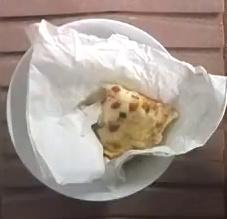pizza: (91, 83, 177, 157)
